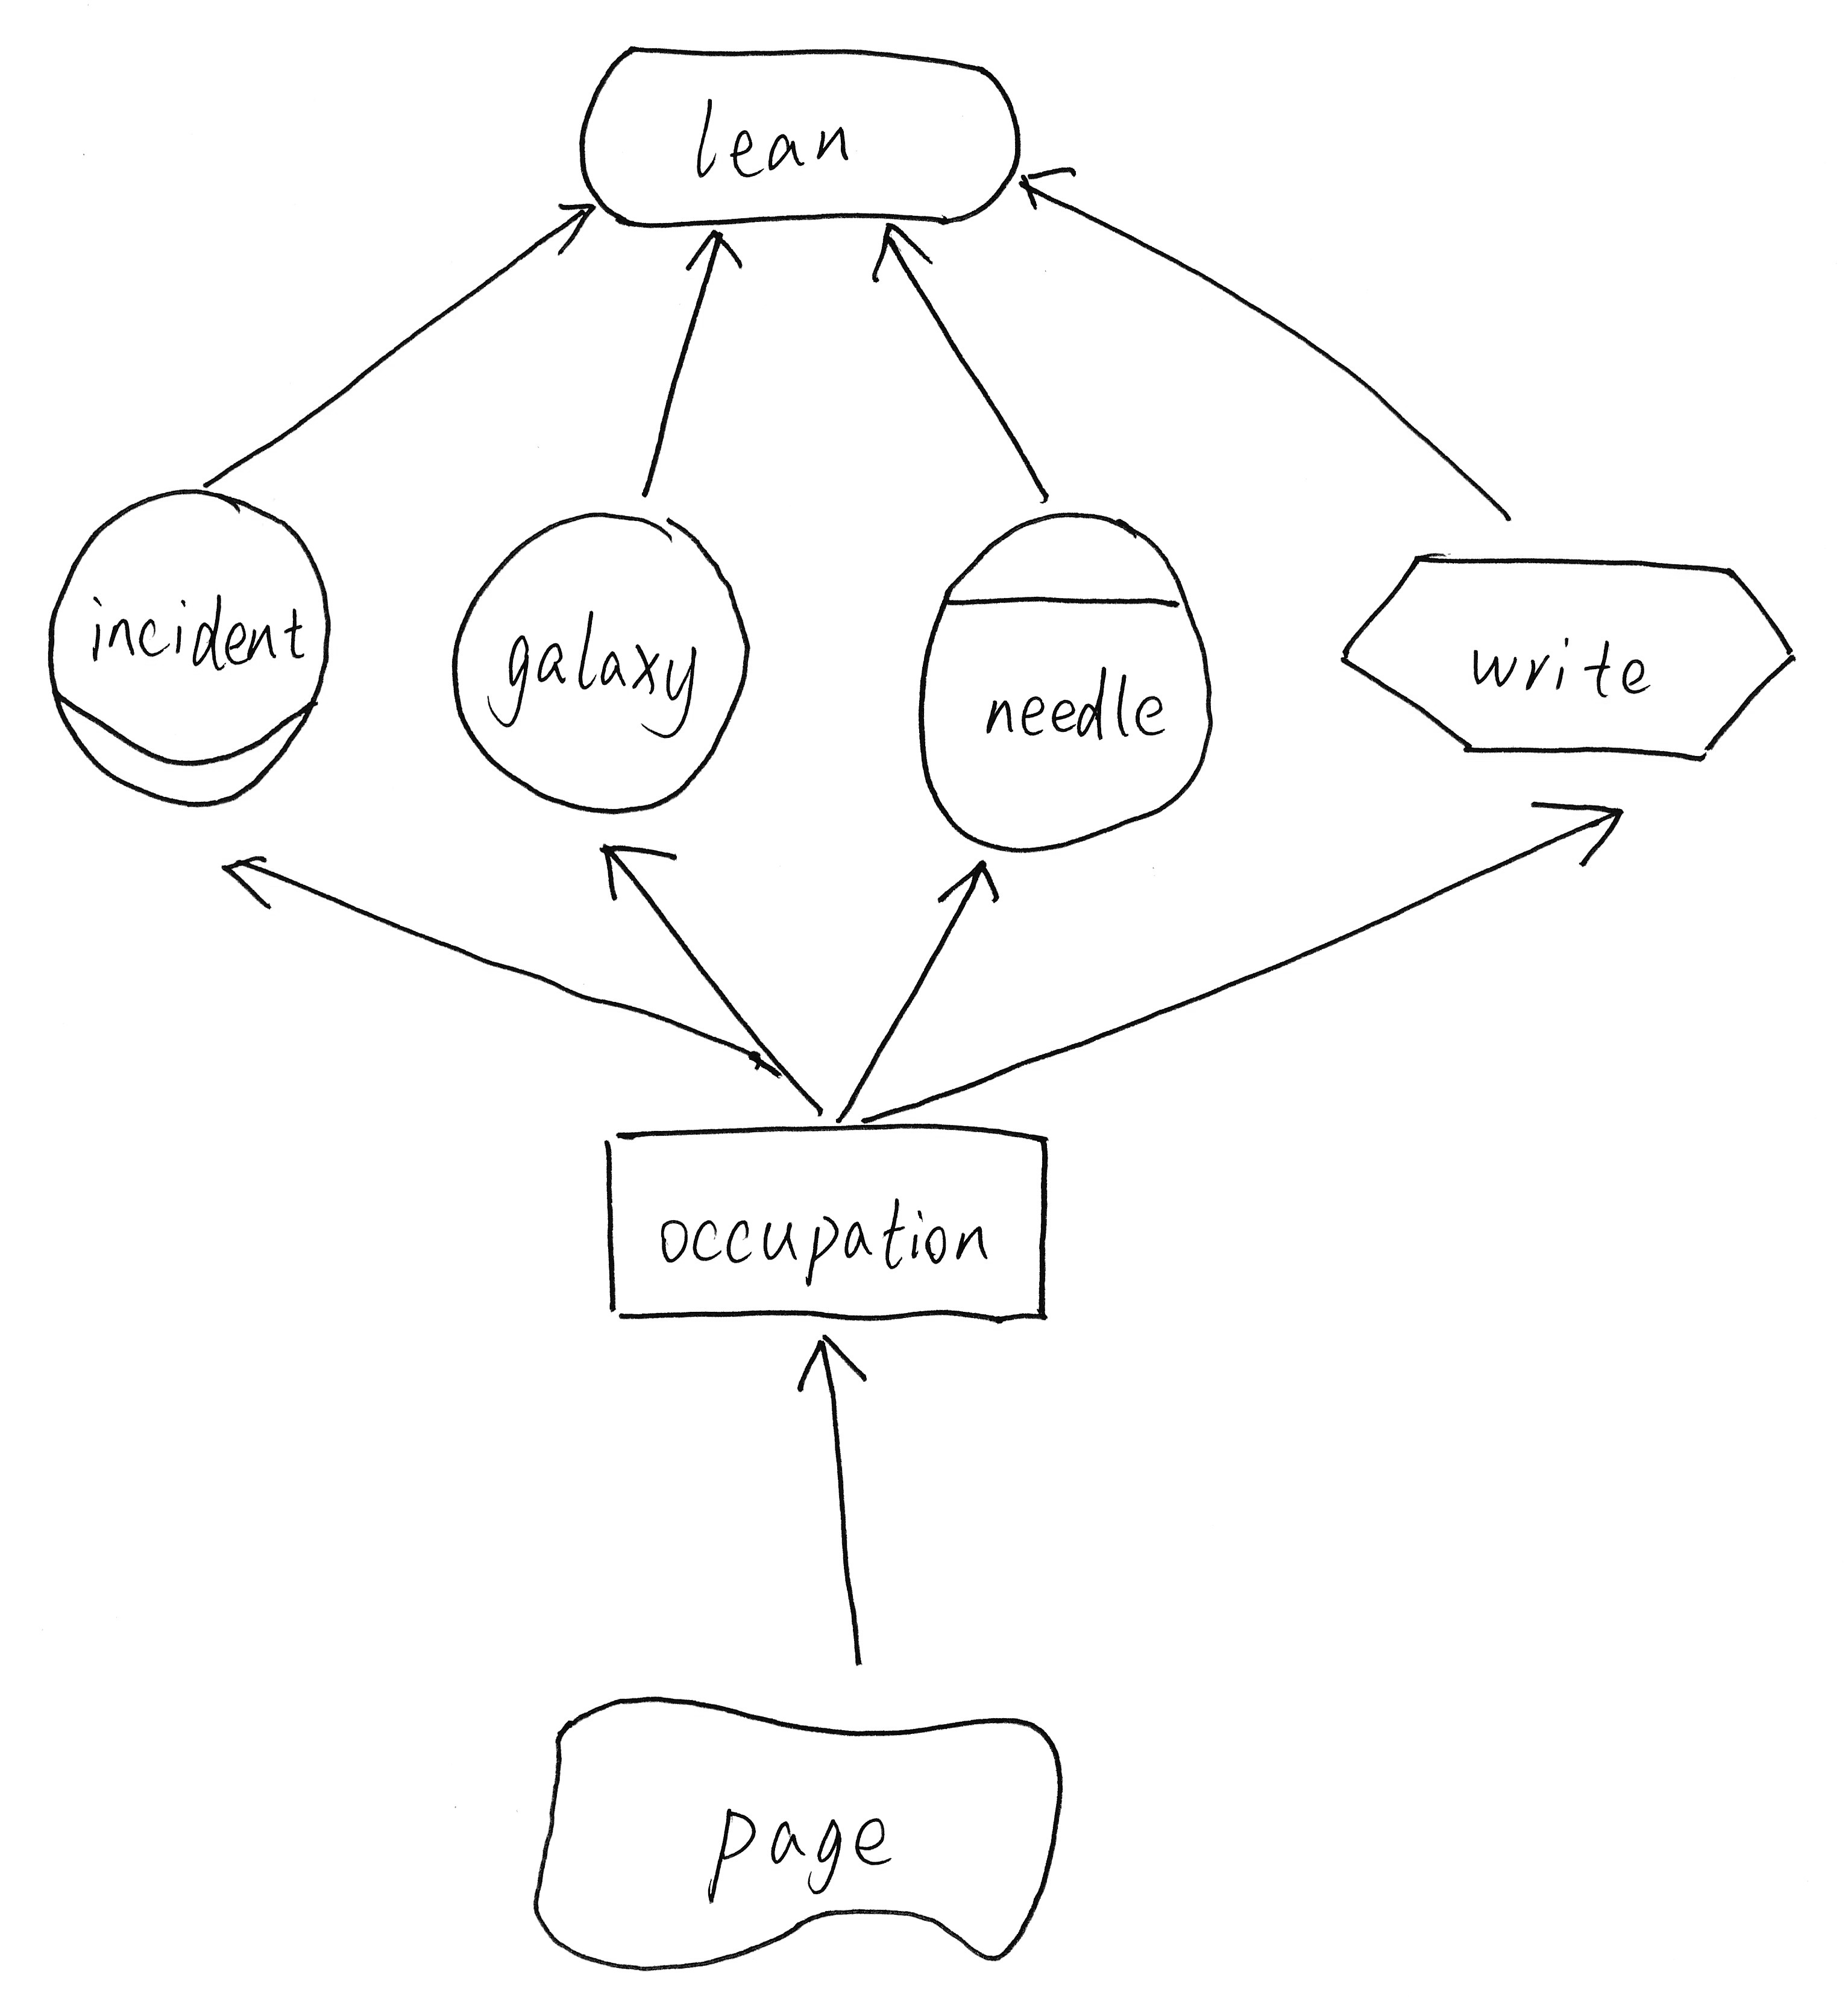actor: (437, 488, 769, 831)
agent: (899, 493, 1230, 864)
arrow: (1527, 778, 1627, 876), (786, 1315, 883, 1415), (855, 207, 946, 295), (1009, 144, 1093, 230), (588, 834, 688, 906), (211, 829, 284, 915), (928, 848, 1013, 922), (548, 177, 614, 258), (677, 211, 739, 283)
goal: (563, 25, 1039, 249)
quality: (504, 1675, 1092, 1981)
resource: (577, 1101, 1079, 1349)
role: (28, 472, 351, 820)
task: (1327, 532, 1820, 780)
